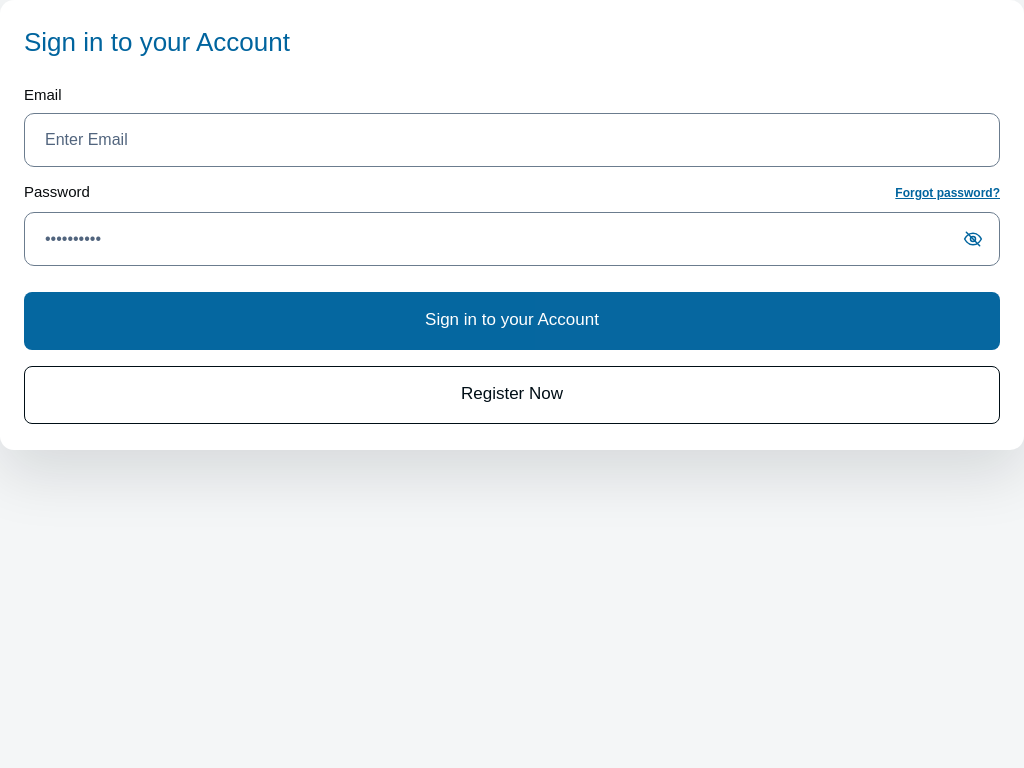
Test: HomeSignIn component › keeps verification available after a rejected code and clears errors on back
Type "borrower@example.com" into the field labelled "Email" at (512, 140), box [24,113,1000,167]
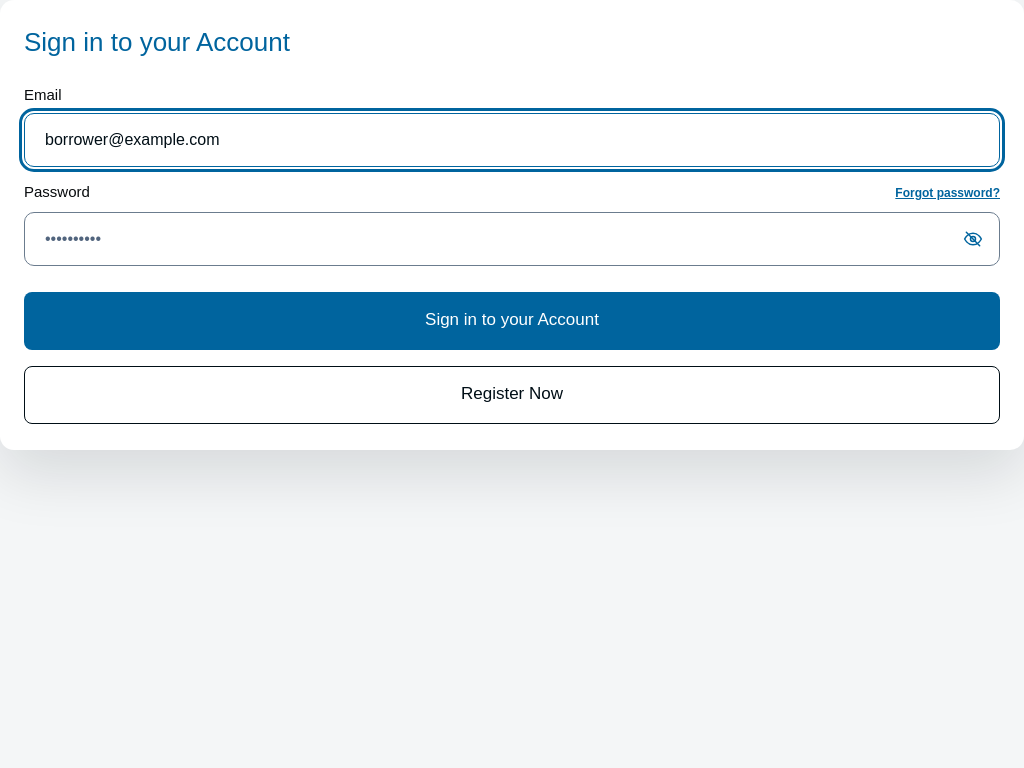
Type "BorrowerPassword123!" into the password field labelled "Password" at (512, 239), box [24,212,1000,266]
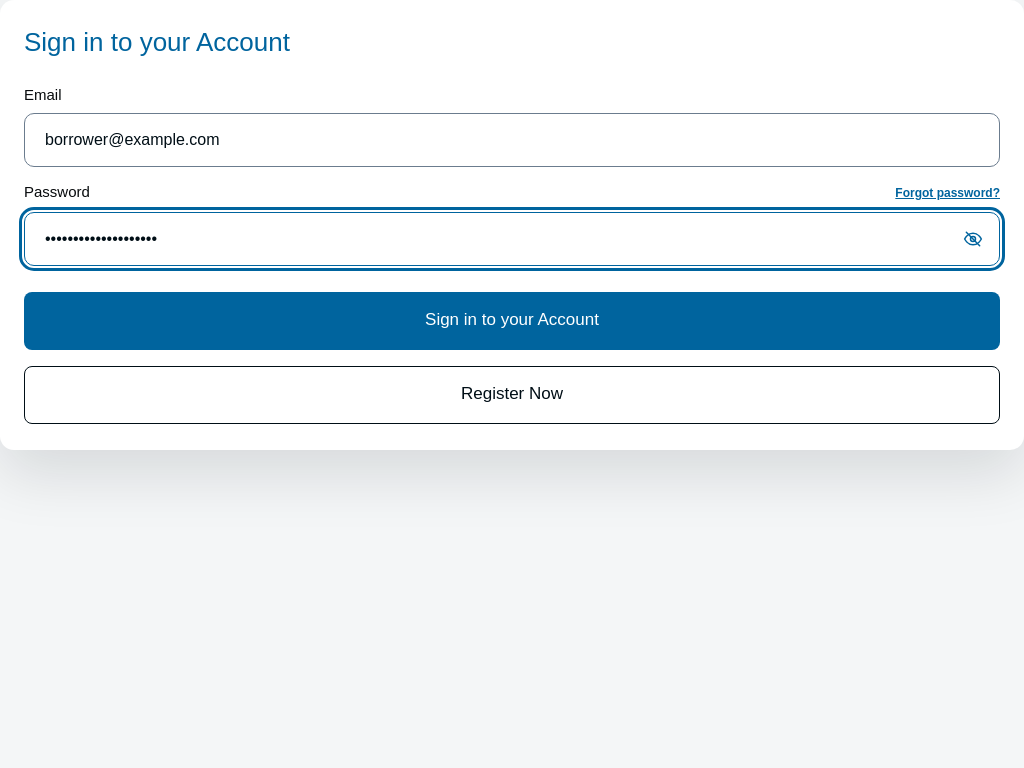
Click the button "Sign in to your Account" at (512, 321), box [24,292,1000,350]
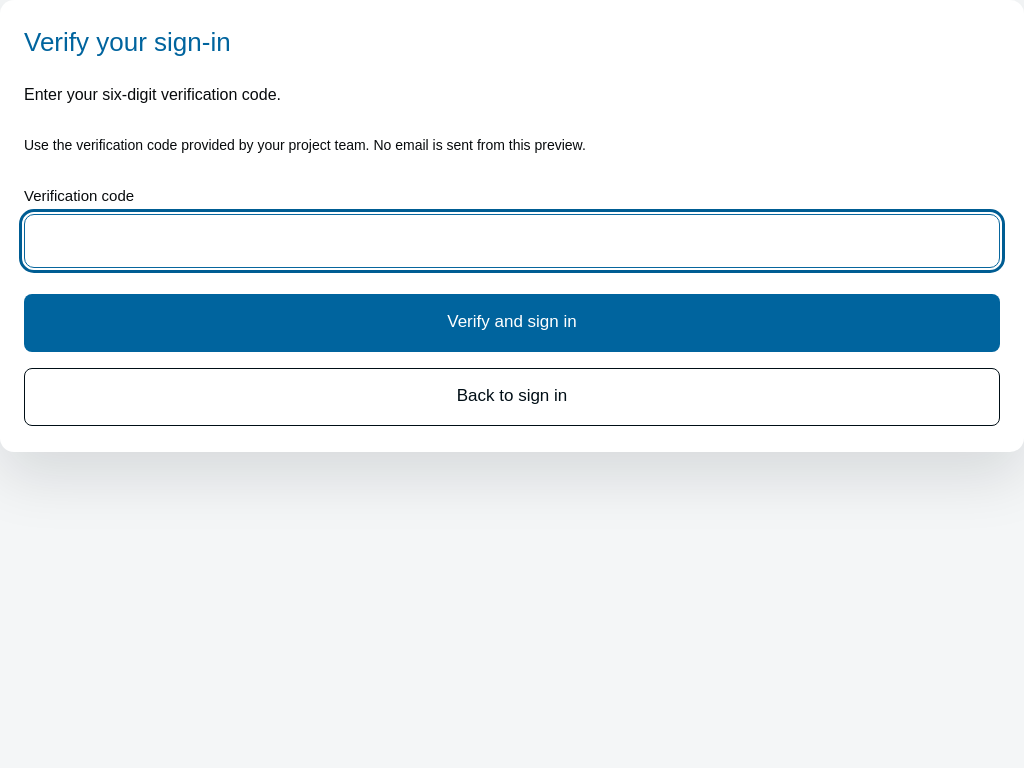
Type "000000" into the field labelled "Verification code" at (512, 240), box [24,214,1000,268]
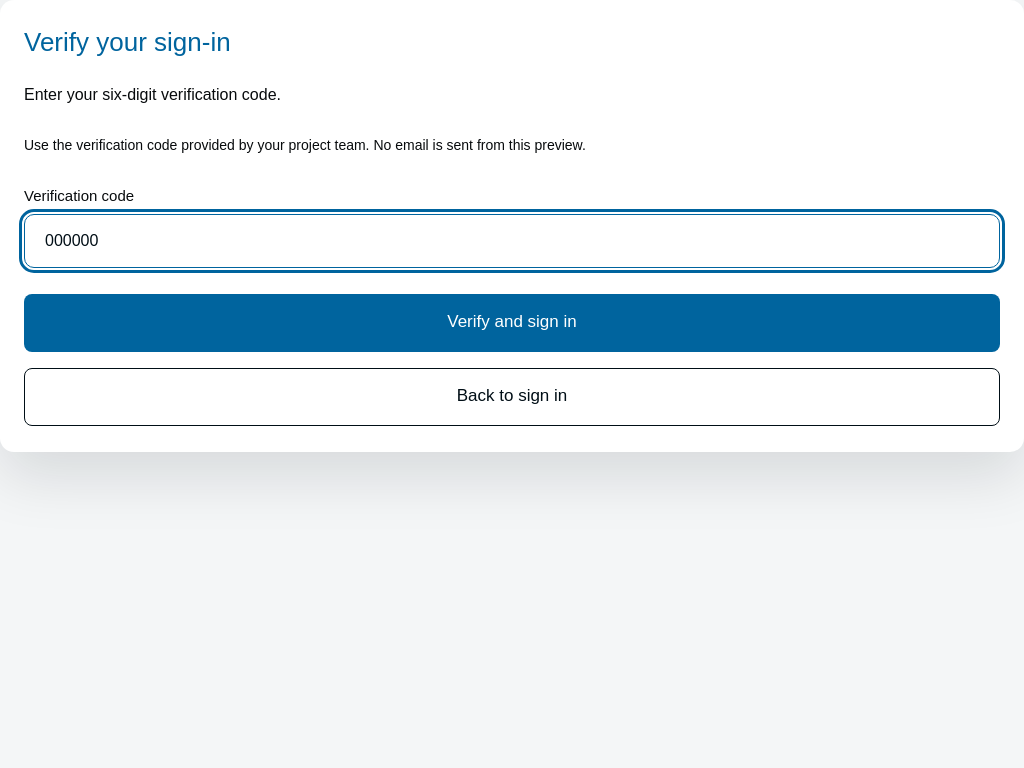
Click the button "Verify and sign in" at (512, 322), box [24,294,1000,352]
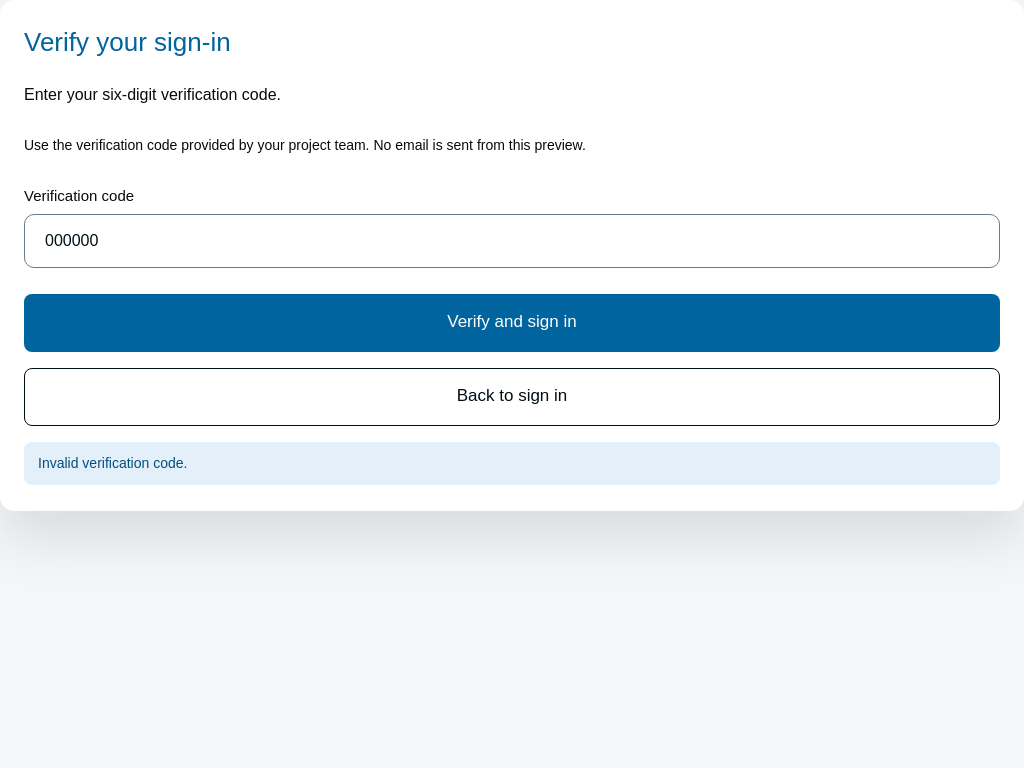
Now the message reads "Invalid verification code.", box [38,454,187,470]
Click the button "Back to sign in" at (512, 396), box [24,368,1000,426]
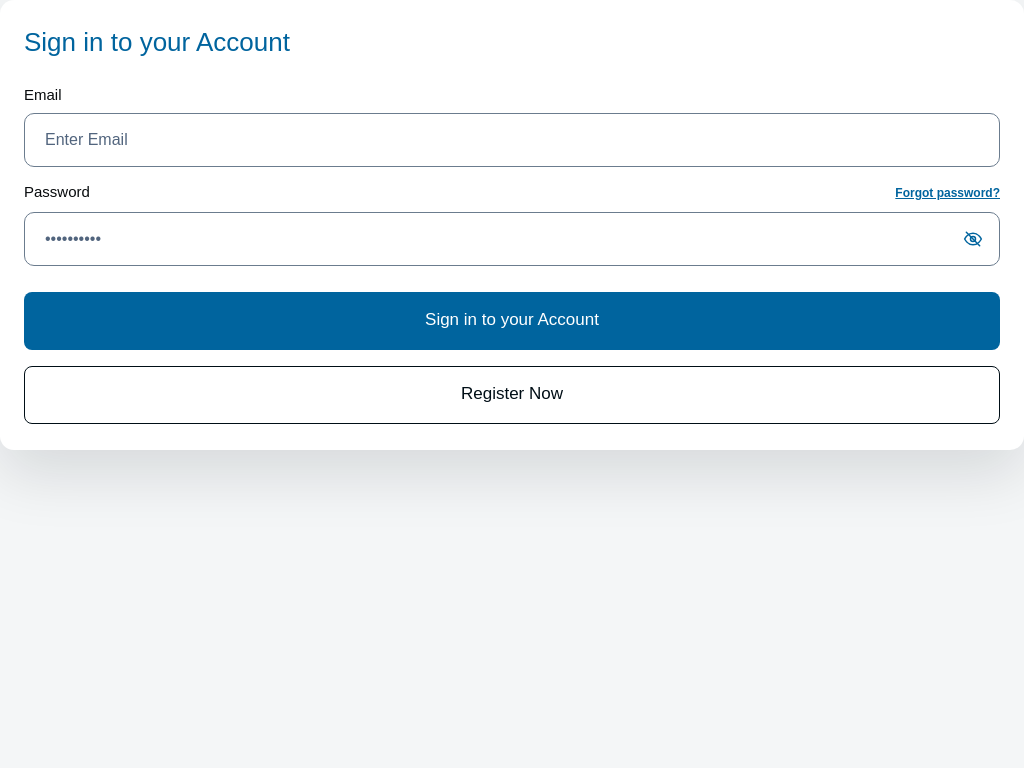
Now the password field labelled "Password" is shown, box [24,212,1000,266]
Now the message "Invalid verification code." is gone
